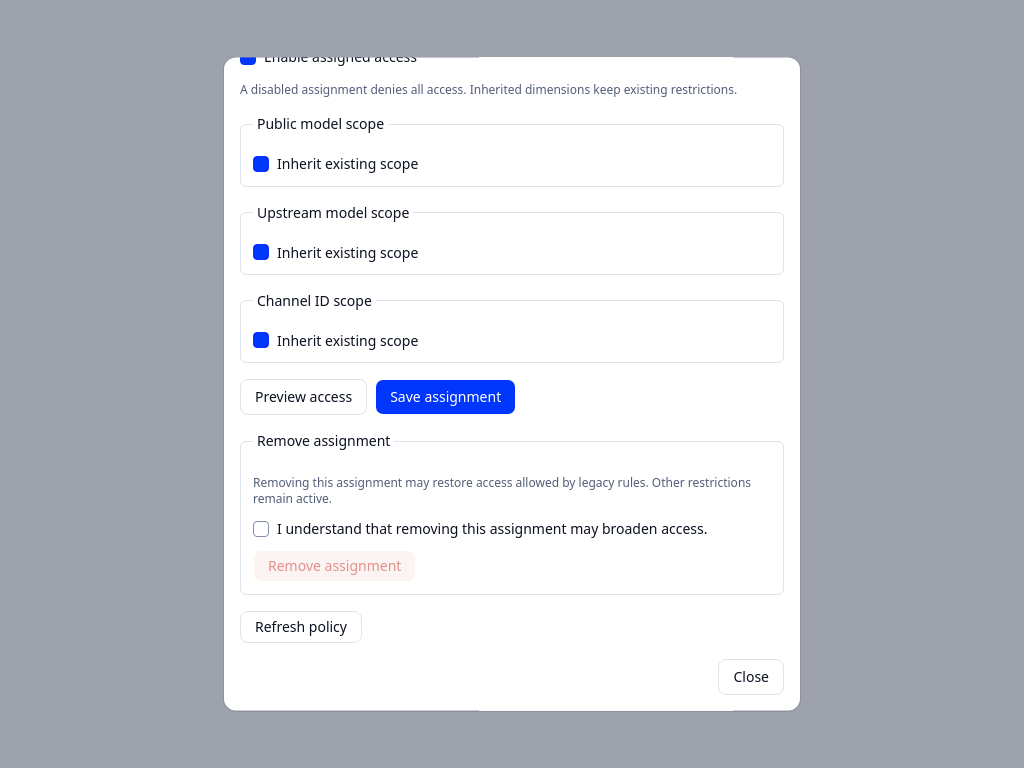
removal requires acknowledgment and uses the current assignment revision
(page scrolled)
Expected: the button "Remove assignment" is disabled, [253,550,416,582]
Click the 4th checkbox named "I understand that removing this assignment may broaden access." at (261, 528), box [253,520,269,536]
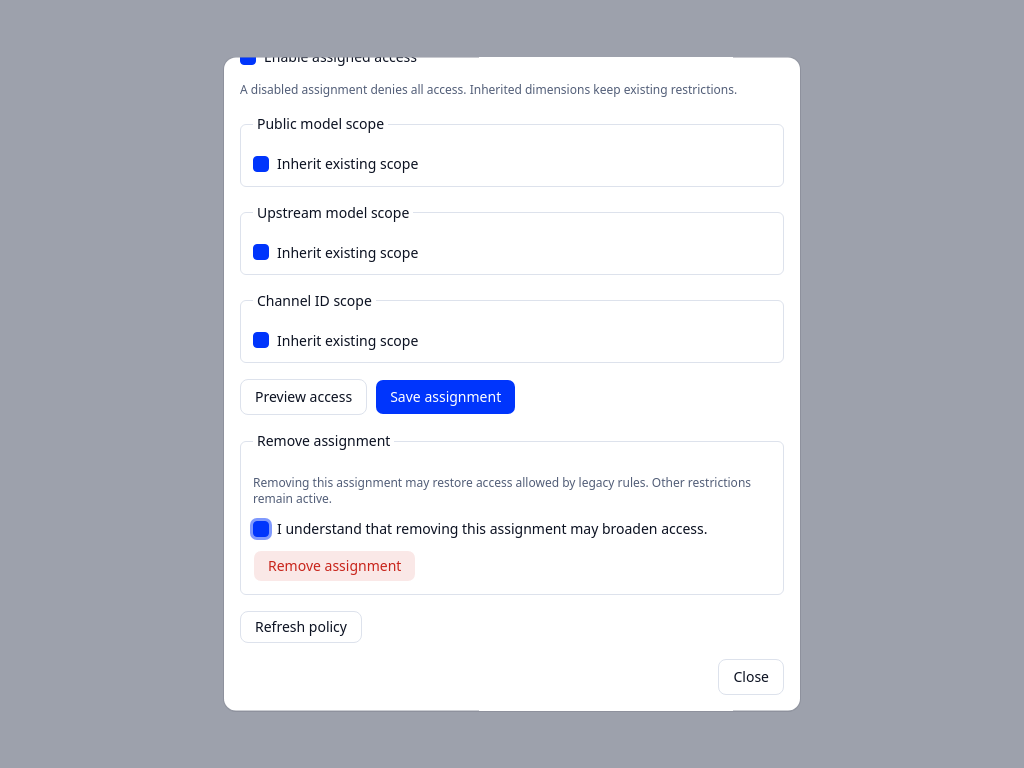
Click the button "Remove assignment" at (335, 566), box [253,550,416,582]
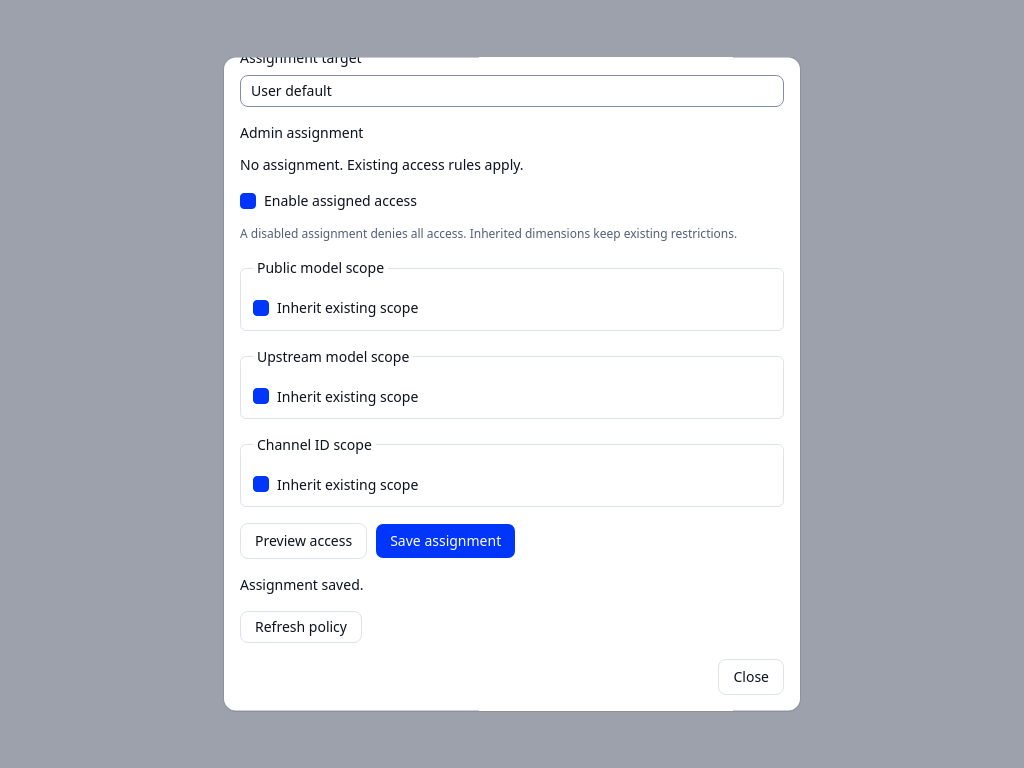
Result: the text "No assignment. Existing access rules apply." is shown at [240,155,524,174]
